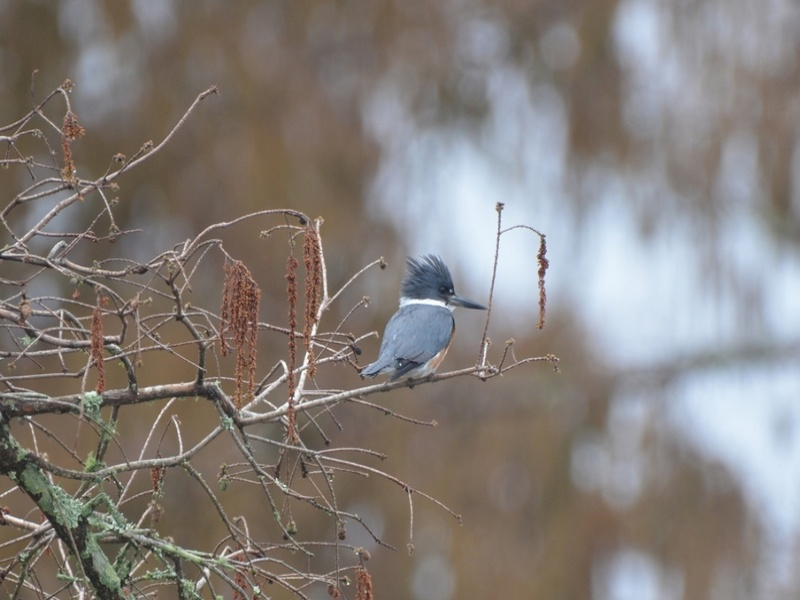kingfisher: (360, 251, 490, 389)
